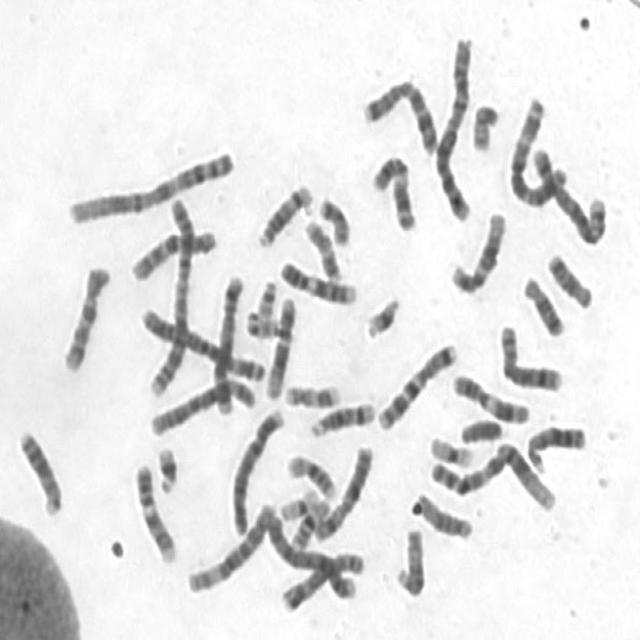A1: (61, 140, 238, 227), (423, 432, 559, 513)
A2: (142, 188, 197, 398), (428, 26, 475, 224)
A3: (133, 298, 268, 385), (503, 88, 568, 209)
B4: (257, 500, 358, 602), (223, 398, 287, 538)
B5: (526, 137, 608, 245), (207, 267, 245, 416)
C10: (55, 255, 113, 374), (124, 218, 220, 284)
C11: (446, 366, 532, 425), (364, 147, 419, 232)
C12: (444, 204, 509, 296), (259, 288, 297, 401)
C6: (180, 494, 278, 596), (143, 370, 258, 437)
C7: (370, 334, 460, 432), (356, 70, 441, 155)
C8: (274, 543, 366, 614), (493, 316, 565, 394)
C9: (128, 455, 178, 566), (274, 252, 359, 306)
D13: (12, 420, 64, 518), (521, 416, 589, 474)
D14: (252, 176, 315, 248), (304, 393, 377, 440)
D15: (406, 484, 475, 542), (389, 520, 427, 599)
E16: (281, 445, 339, 501), (286, 491, 332, 551)
E17: (299, 210, 344, 284), (279, 374, 342, 409)
E18: (516, 267, 566, 339), (542, 244, 595, 310)
F19: (424, 428, 476, 469), (274, 480, 322, 522)
F20: (312, 189, 352, 247), (466, 93, 501, 154)
G21: (360, 286, 402, 340), (152, 438, 180, 496)
G22: (251, 272, 278, 322), (244, 310, 286, 342)
X: (309, 436, 375, 543)
Y: (454, 409, 504, 446)
